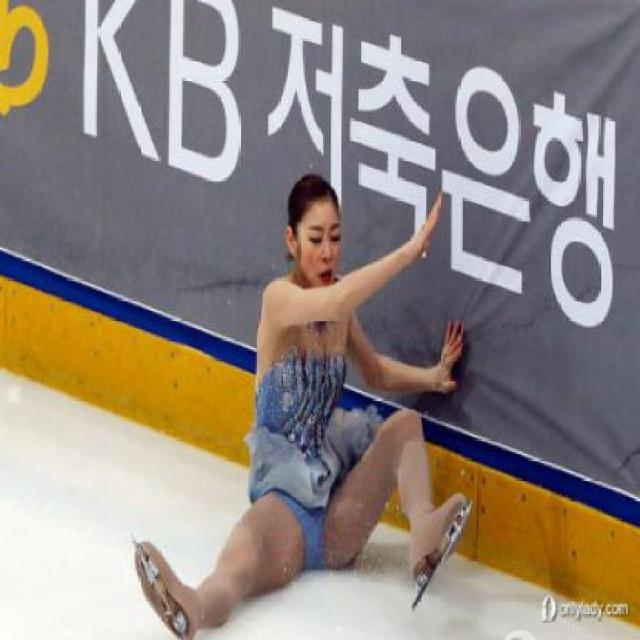fall: (130, 153, 490, 638)
